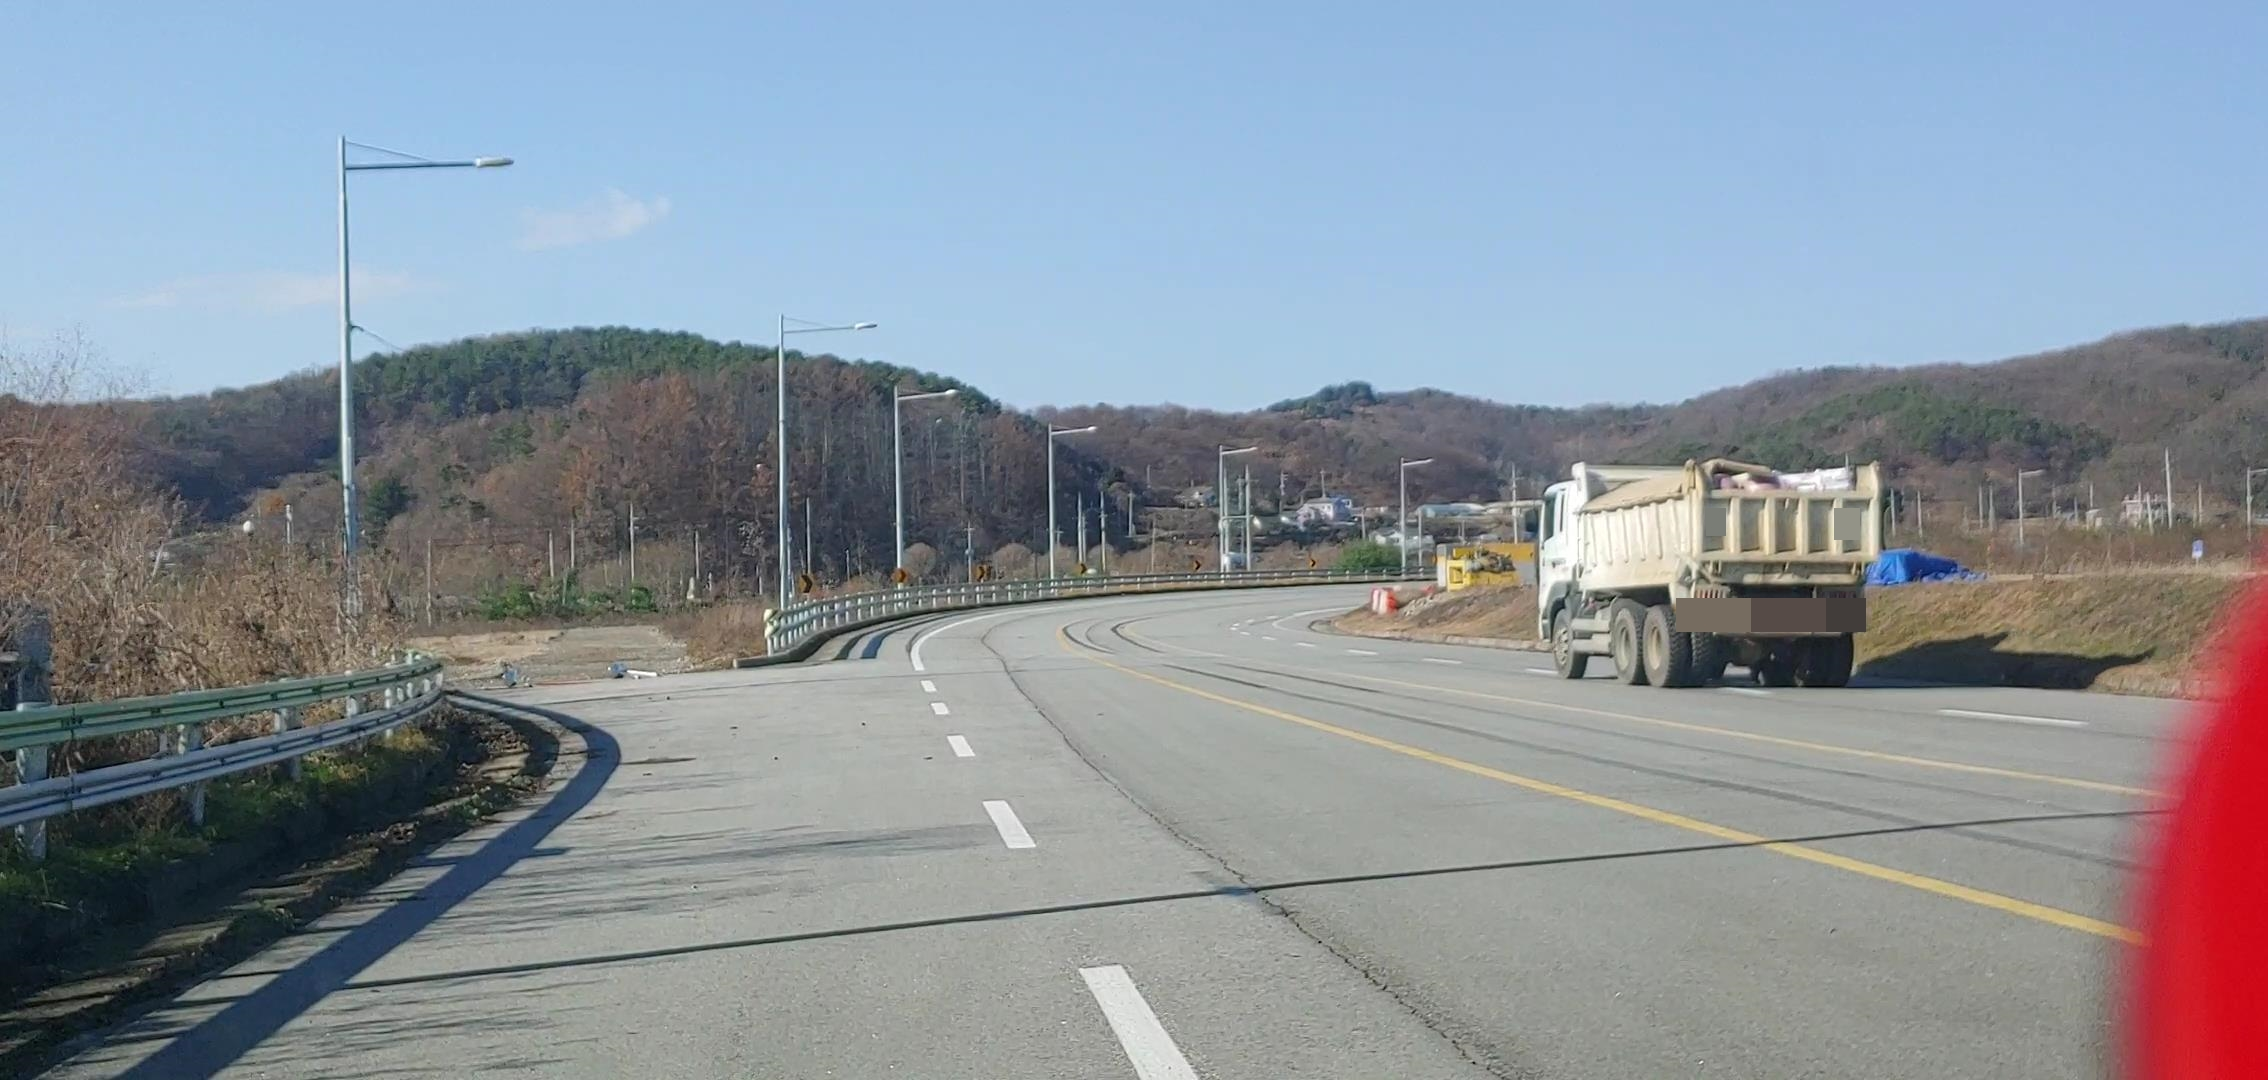불법차량: (1524, 458, 1892, 688)
